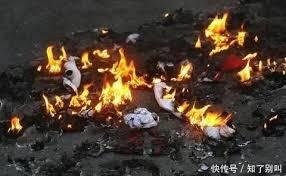fire: (36, 42, 146, 119), (196, 12, 248, 53), (235, 51, 273, 81), (37, 42, 69, 72), (5, 114, 25, 133)
